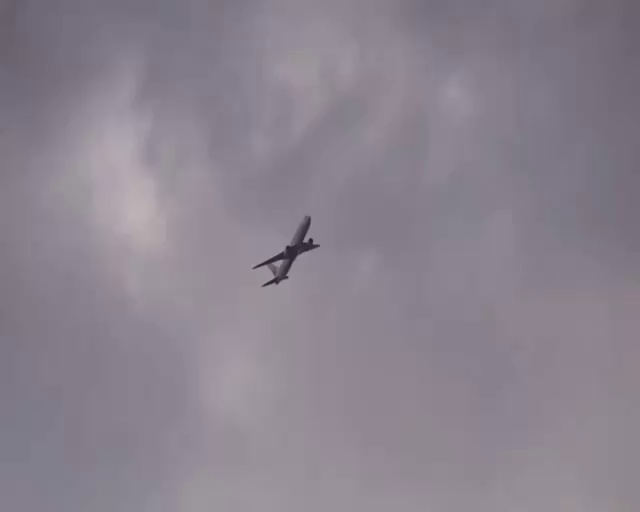AIRPLANE: (252, 214, 320, 288)
